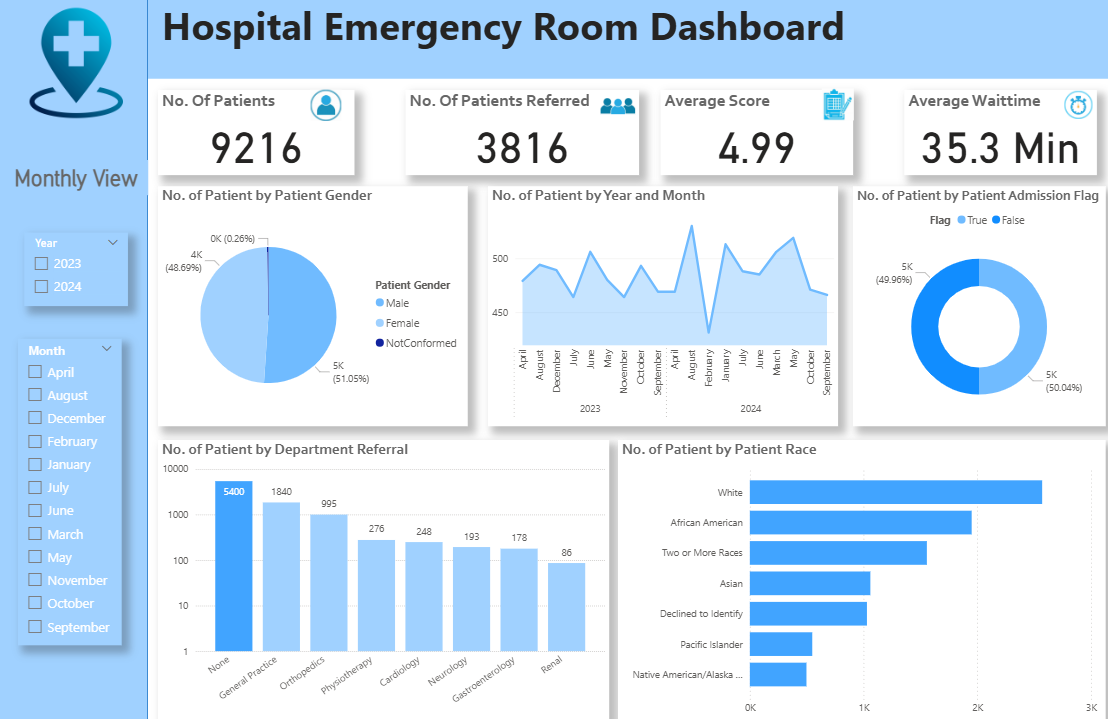

Layout of this report page (visuals, bound fields, positions):
{"tool":"powerbi","page":{"name":"Hospital","canvas":[1411,920],"ordinal":0},"visuals":[{"type":"card","title":"No. Of Patients","fields":{"Values":["Hospital ER_Data.# Patient"]},"box":[206.3,118.8,245.3,106.3],"z":0},{"type":"shape","box":[0,0,1412.5,104.7],"z":1000},{"type":"shape","box":[0,0,193.8,920.3],"z":2000},{"type":"textbox","box":[206.3,0,875,84.4],"z":3000},{"type":"image","box":[14.1,10.9,179.7,148.4],"z":4000},{"type":"card","title":"No. Of Patients Referred","fields":{"Values":["Dax Measures.# Patient Referred"]},"box":[515.6,118.8,292.2,106.3],"z":5000},{"type":"card","title":"Average Waittime","fields":{"Values":["Dax Measures.Avg Wait Time Card"]},"box":[1139.1,118.8,240.6,106.3],"z":6000},{"type":"card","title":"Average Score","fields":{"Values":["Dax Measures.Avg Score"]},"box":[834.9,118.8,240.6,106.3],"z":7000},{"type":"image","box":[392.2,70.3,48.4,135.9],"z":8000},{"type":"image","box":[1031.3,70.3,50,132.8],"z":9000},{"type":"image","box":[1334.4,76.6,45.3,121.9],"z":10000},{"type":"image","box":[754.7,59.4,53.1,159.4],"z":11000},{"type":"pieChart","title":"No. of Patient by Patient Gender","fields":{"Category":["Hospital ER_Data.Patient Gender"],"Y":["Dax Measures.# Patient"]},"box":[206.3,239.1,387.5,300],"z":12000},{"type":"lineChart","title":"No. of Patient by Year and Month","fields":{"Y":["Dax Measures.# Patient"],"Category":["Hospital ER_Data.Year","Hospital ER_Data.Month"]},"box":[618.8,239.1,437.5,300],"z":13000},{"type":"columnChart","title":"No. of Patient by Department Referral","fields":{"Category":["Hospital ER_Data.Department Referral"],"Y":["Dax Measures.# Patient"]},"box":[206.3,556.3,564.1,353.1],"z":14000},{"type":"donutChart","title":"No. of Patient by Patient Admission Flag","fields":{"Category":["Hospital ER_Data.Patient Admission Flag"],"Y":["Dax Measures.# Patient"]},"box":[1075,239.1,315.6,300],"z":15000},{"type":"barChart","title":"No. of Patient by Patient Race","fields":{"Category":["Hospital ER_Data.Patient Race"],"Y":["Dax Measures.# Patient"]},"box":[781.3,556.3,609.4,353.1],"z":16000},{"type":"slicer","fields":{"Values":["Hospital ER_Data.Month"]},"box":[31.3,429.7,129.7,382.8],"z":17000},{"type":"slicer","fields":{"Values":["Hospital ER_Data.Year"]},"box":[39.1,296.9,129.7,92.2],"z":18000},{"type":"textbox","box":[14.1,206.3,179.7,43.8],"z":19000}]}

Visuals, with their boxes in screenshot pixels (x1, y1, x2, y2), scaled from the page's 1411x920 canvas onto the 1108x719 screenshot:
"No. Of Patients" card: (162, 93, 355, 176)
shape: (0, 0, 1107, 82)
shape: (0, 0, 152, 718)
textbox: (162, 0, 849, 66)
image: (11, 9, 152, 124)
"No. Of Patients Referred" card: (405, 93, 634, 176)
"Average Waittime" card: (894, 93, 1083, 176)
"Average Score" card: (656, 93, 845, 176)
image: (308, 55, 346, 161)
image: (810, 55, 849, 159)
image: (1048, 60, 1083, 155)
image: (593, 46, 634, 171)
"No. of Patient by Patient Gender" pieChart: (162, 187, 466, 421)
"No. of Patient by Year and Month" lineChart: (486, 187, 829, 421)
"No. of Patient by Department Referral" columnChart: (162, 435, 605, 711)
"No. of Patient by Patient Admission Flag" donutChart: (844, 187, 1092, 421)
"No. of Patient by Patient Race" barChart: (614, 435, 1092, 711)
slicer - Hospital ER_Data.Month: (25, 336, 126, 635)
slicer - Hospital ER_Data.Year: (31, 232, 133, 304)
textbox: (11, 161, 152, 195)
